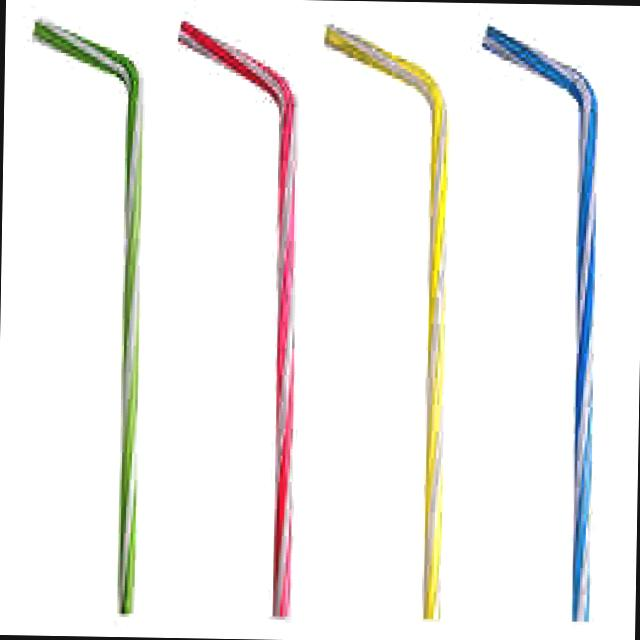plastic straw: (328, 26, 447, 619), (180, 22, 294, 616), (484, 25, 596, 620), (34, 21, 138, 614)
